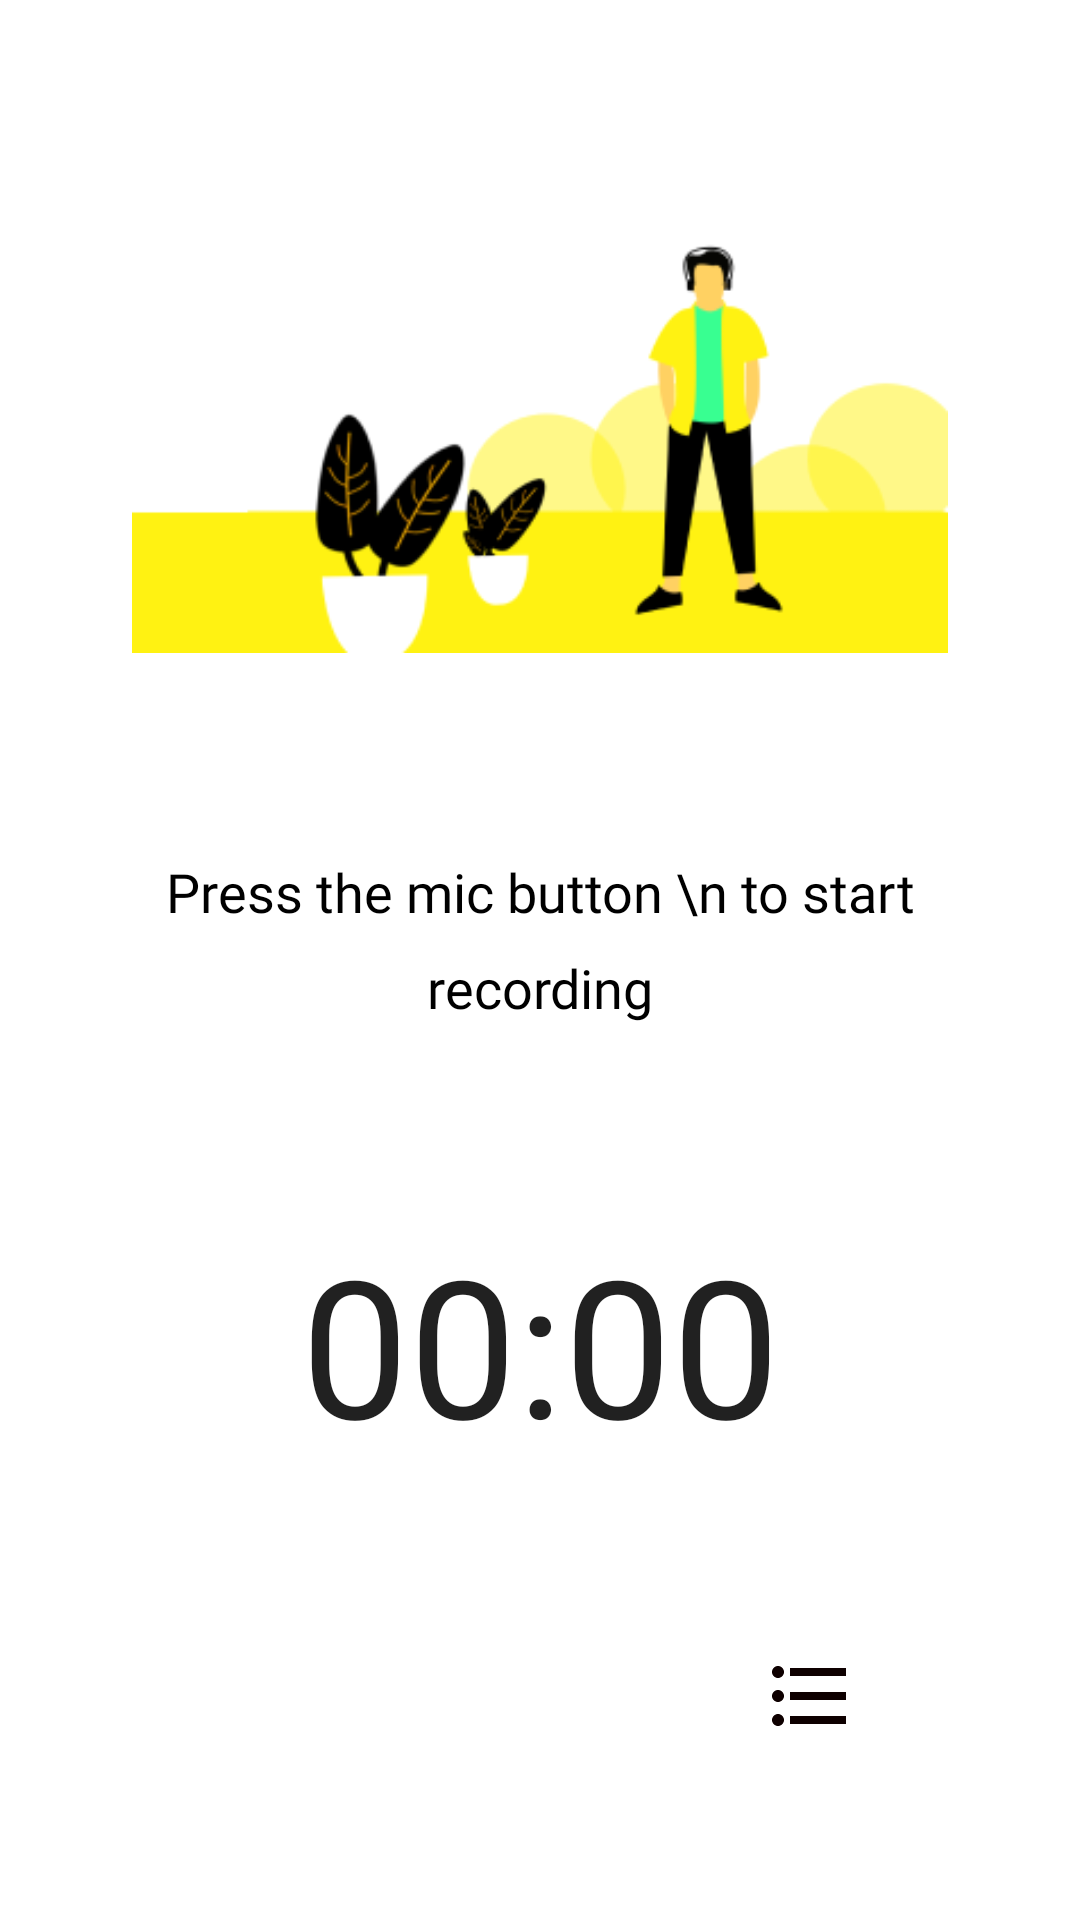

Locate icon controls on the screen. Image size 1080px×1920px, boxes as bbox=(x1, y1, x2, y2).
audio list: bbox=(772, 1666, 846, 1726)
